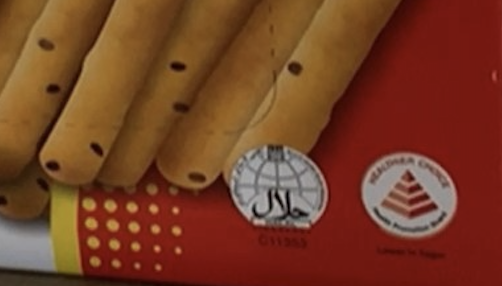halal: (246, 159, 312, 227)
